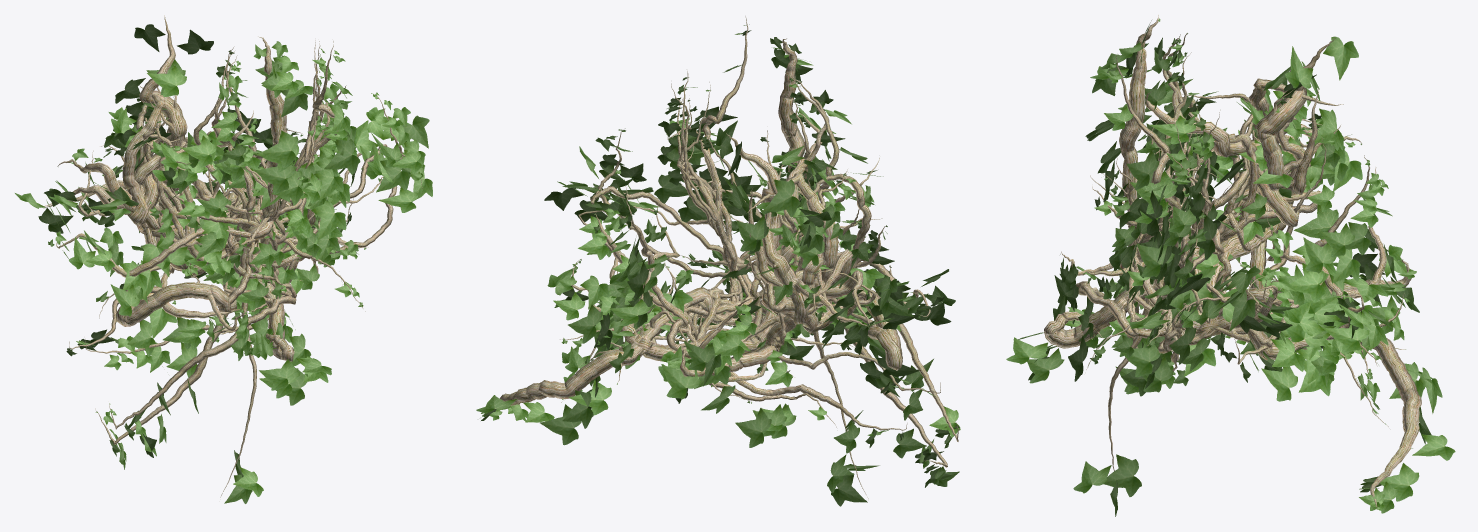
The model's file is fxhcghjgjkhkljkhjvchgjg 1.FBX.
3 views of the same model, side by side, from view 1: azimuth 30°, elevation 25°; view 2: azimuth 150°, elevation 25°; view 3: azimuth 270°, elevation 25° (orthographic). The views are drawn at different scales.
Visible parts, largest first — view 1: gwIvy001; view 2: gwIvy001; view 3: gwIvy001.
Boxes of the visible parts, x1=… form: gwIvy001: x1=15, y1=15, x2=432, y2=503; gwIvy001: x1=476, y1=16, x2=960, y2=506; gwIvy001: x1=1006, y1=15, x2=1455, y2=516.
Size of the model in its own units: 20.86 by 24.35 by 19.6.
2 materials, 2 textured.
